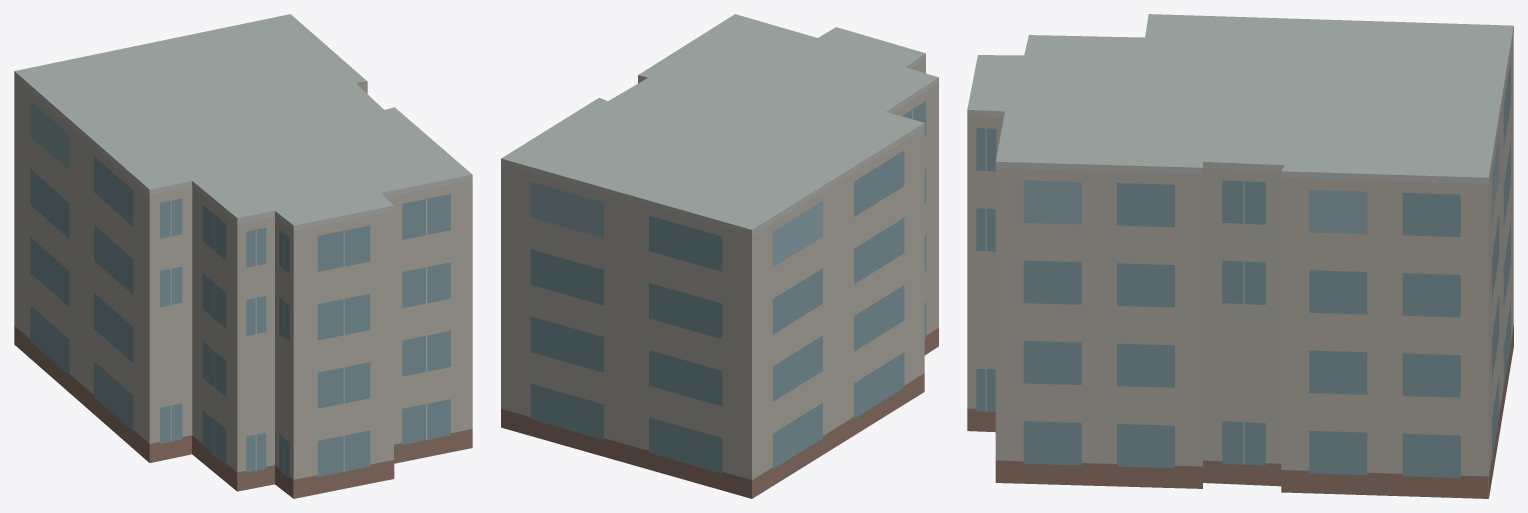
File: survey-upis-32613688.glb
The picture shows the model from 3 angles, left to right: view 1: azimuth 30°, elevation 25°; view 2: azimuth 150°, elevation 25°; view 3: azimuth 270°, elevation 25°; orthographic projection. The views are drawn at different scales.
Visible parts, largest first — view 1: survey-upis-32613688.tmp; view 2: survey-upis-32613688.tmp; view 3: survey-upis-32613688.tmp.
Part boxes in pixels (<box>): survey-upis-32613688.tmp: <box>14,14,472,498</box>; survey-upis-32613688.tmp: <box>501,14,938,498</box>; survey-upis-32613688.tmp: <box>967,14,1513,498</box>.
Bounding box in the file's own units: 13.02 × 11.9 × 18.37.
